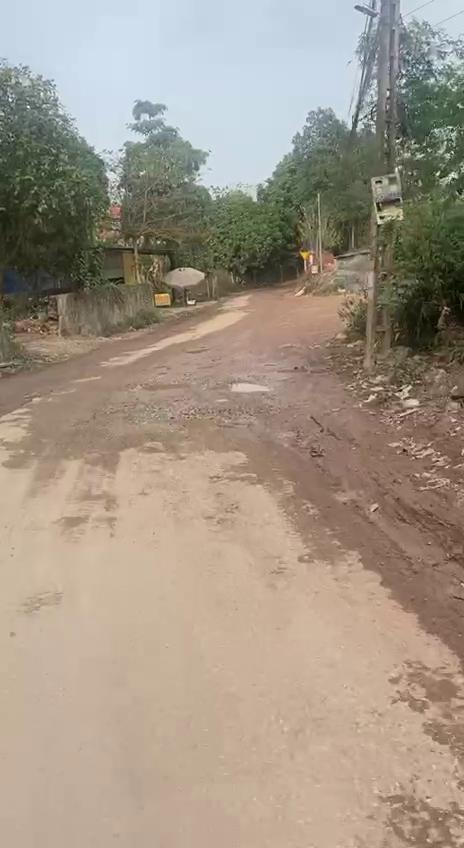pothole: (114, 397, 256, 428), (124, 378, 194, 394), (221, 380, 272, 394)
